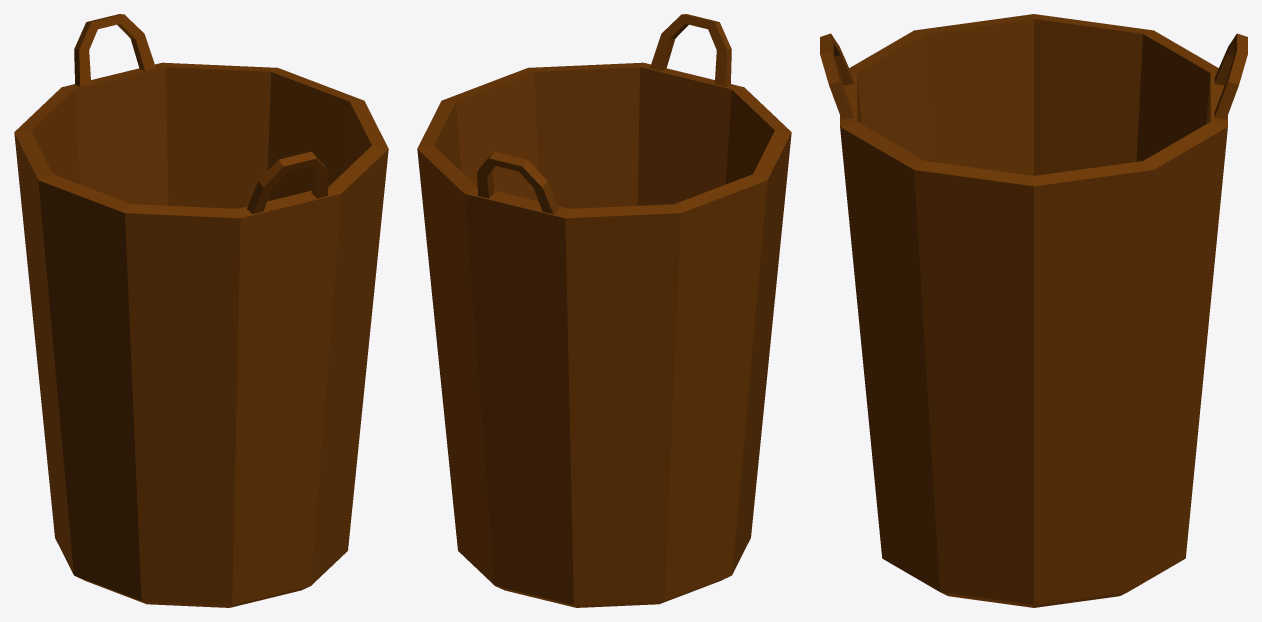
File: Basket.fbx
The picture shows the model from 3 angles, left to right: view 1: azimuth 30°, elevation 25°; view 2: azimuth 150°, elevation 25°; view 3: azimuth 270°, elevation 25°; orthographic projection. The views are drawn at different scales.
Visible parts, largest first — view 1: Basket; view 2: Basket; view 3: Basket.
Boxes of the visible parts, x1,y1,x2,y2 form: Basket: (14, 14, 388, 607); Basket: (417, 14, 791, 607); Basket: (820, 14, 1247, 607).
Bounding box in the file's own units: 42 × 57.28 × 44.05.
